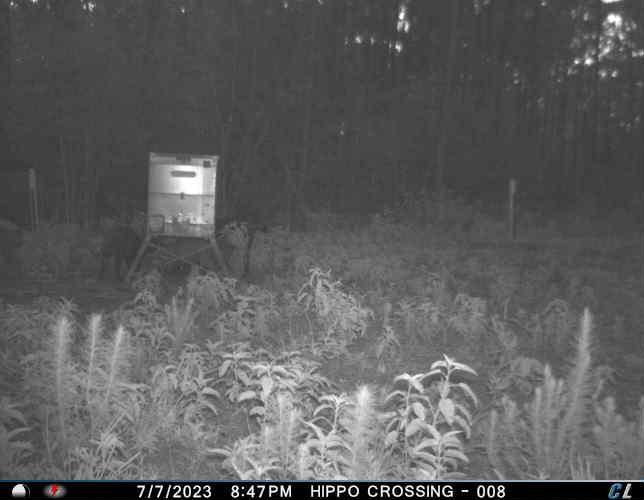Hog: (95, 224, 146, 279), (219, 216, 269, 272)
